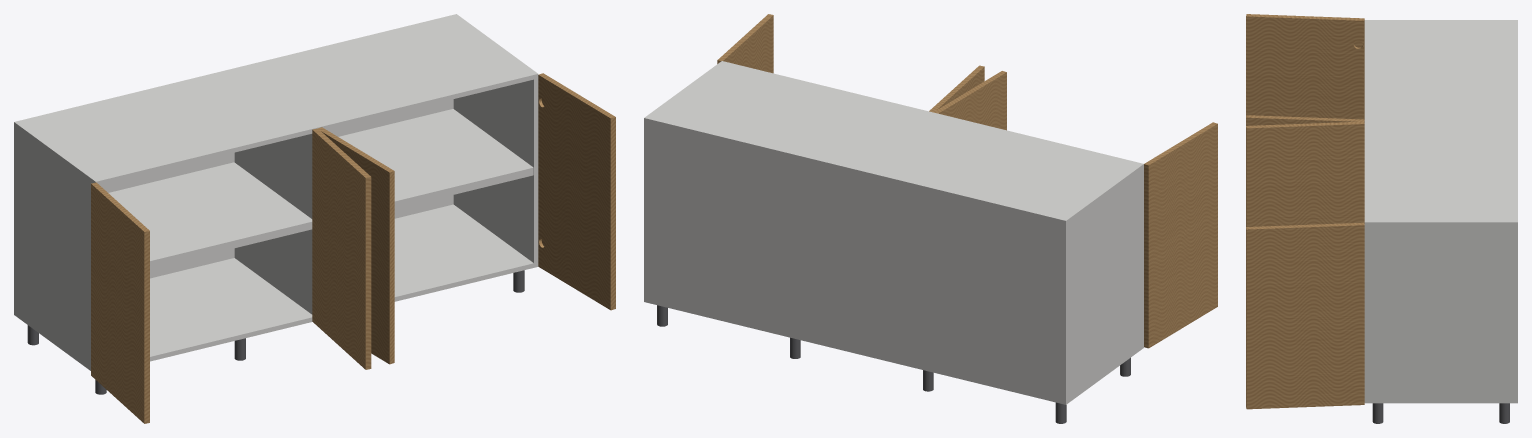
Rendered from w1800_onset_pair_open.glb.
3 views of the same model, side by side, from view 1: azimuth 30°, elevation 25°; view 2: azimuth 150°, elevation 25°; view 3: azimuth 270°, elevation 25° (orthographic). The views are drawn at different scales.
Visible parts, largest first — view 1: white, oak, leg; view 2: white, oak, leg; view 3: white, oak, leg.
Part boxes in pixels (<box>): white: <box>14,14,538,370</box>; oak: <box>91,73,615,423</box>; leg: <box>27,270,524,394</box>; white: <box>644,61,1143,404</box>; oak: <box>717,14,1217,348</box>; leg: <box>657,305,1130,423</box>; white: <box>1364,20,1517,403</box>; oak: <box>1246,14,1364,409</box>; leg: <box>1372,403,1509,423</box>.
Size of the model in its own units: 1.92 by 0.85 by 1.02.
Materials: 3 (1 with a texture image).
